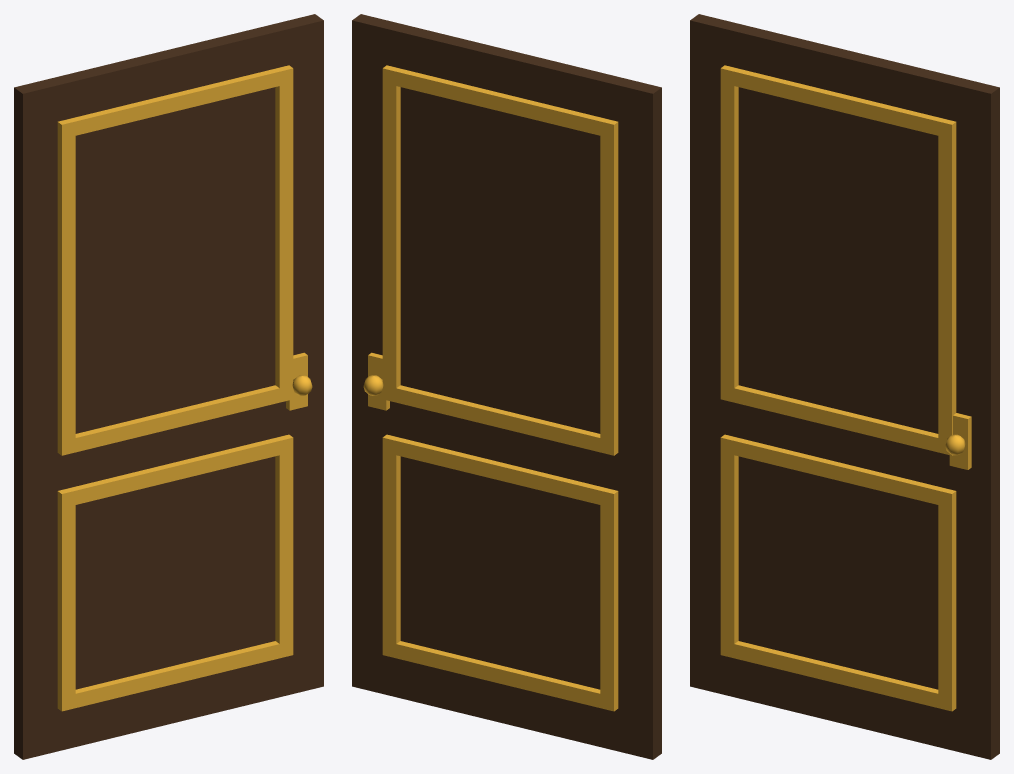
The model's file is SM_Door_academy_wood_100x210.fbx.
3 renders of one model, left to right at view 1: azimuth 30°, elevation 25°; view 2: azimuth 150°, elevation 25°; view 3: azimuth 330°, elevation 25°, orthographic.
Visible parts, largest first — view 1: SM_Door_academy_wood_100x210; view 2: SM_Door_academy_wood_100x210; view 3: SM_Door_academy_wood_100x210.
Part boxes in pixels (x1,y1,x2,y2): SM_Door_academy_wood_100x210: (14, 14, 323, 759); SM_Door_academy_wood_100x210: (352, 14, 661, 759); SM_Door_academy_wood_100x210: (690, 14, 999, 759).
Size of the model in its own units: 0.988 by 2.09 by 0.19.
